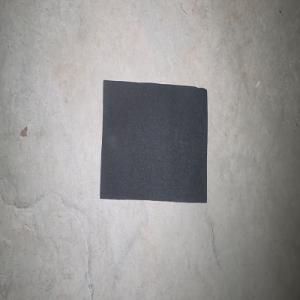PaintChip: (99, 79, 207, 203)
